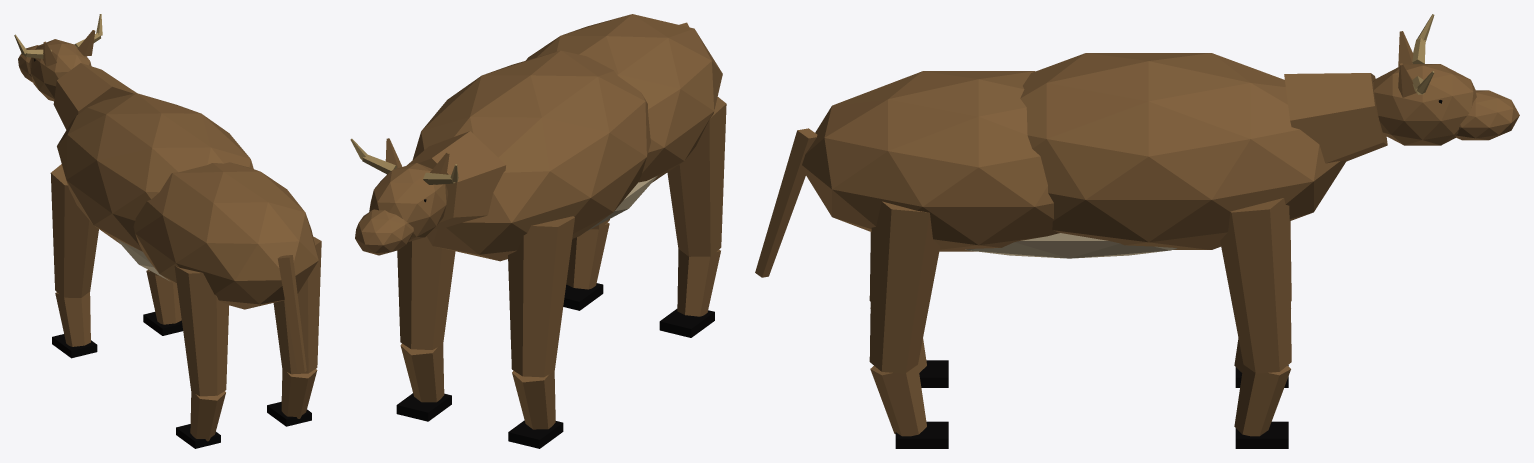
Rendered from animal_cow.fbx.
3 renders of one model, left to right at view 1: azimuth 30°, elevation 25°; view 2: azimuth 150°, elevation 25°; view 3: azimuth 270°, elevation 25°, orthographic. The views are drawn at different scales.
Visible parts, largest first — view 1: animal_cow; view 2: animal_cow; view 3: animal_cow.
Boxes of the visible parts, x1,y1,x2,y2 form: animal_cow: [14, 14, 321, 448]; animal_cow: [350, 14, 726, 448]; animal_cow: [755, 14, 1519, 448].
Size of the model in its own units: 0.8084 by 1.43 by 2.7.
